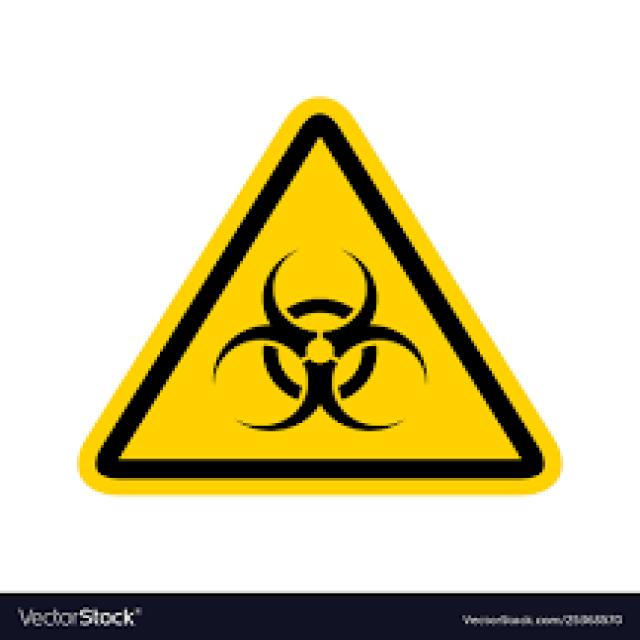biological-hazard: (25, 90, 569, 493)
